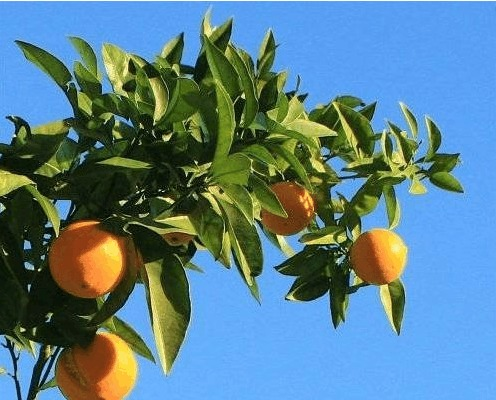orange: (49, 220, 128, 296), (54, 331, 139, 400), (253, 176, 314, 236), (349, 226, 408, 284)
